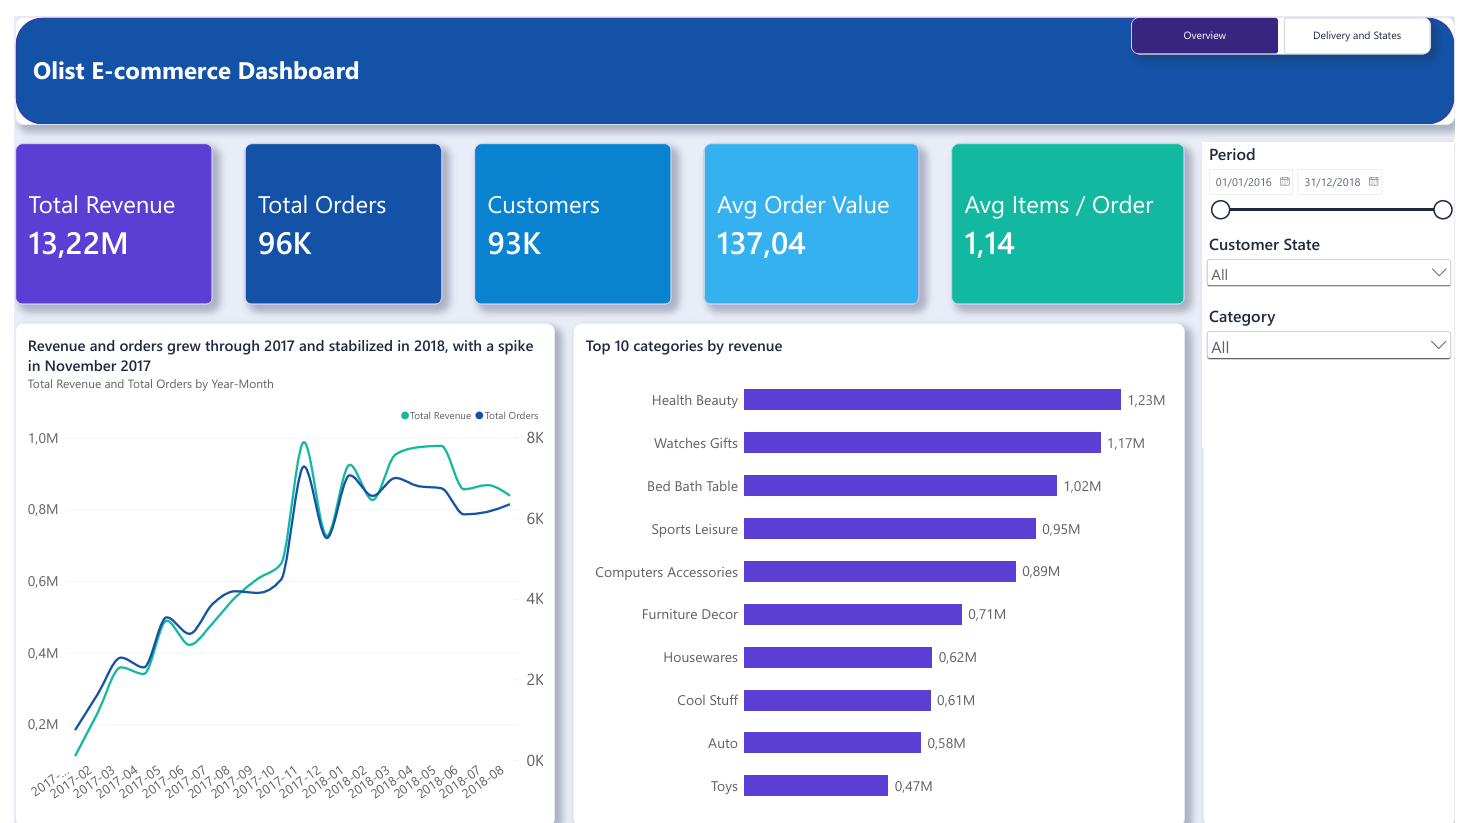

What the dashboard file says about the page in this screenshot:
{"tool":"powerbi","page":{"name":"Overview","canvas":[1920,1080],"ordinal":0},"visuals":[{"type":"cardVisual","fields":{"Data":["public vw_orders.Total Revenue"]},"box":[0,168,264,216],"z":0},{"type":"shape","box":[0,0,1920,144],"z":1},{"type":"textbox","box":[24,48,504,48],"z":3},{"type":"shape","box":[1584,168,336,912],"z":4},{"type":"slicer","fields":{"Values":["Calendar.Date"]},"box":[1584,168,336,192],"z":5},{"type":"slicer","fields":{"Values":["vw_orders.customer_state"]},"box":[1584,288,336,168],"z":6},{"type":"slicer","fields":{"Values":["vw_order_items.category"]},"box":[1584,384,336,192],"z":7},{"type":"cardVisual","fields":{"Data":["vw_orders.Total Orders"]},"box":[306,168,264,216],"z":8},{"type":"cardVisual","fields":{"Data":["vw_orders.Unique Customers"]},"box":[612,168,264,216],"z":9},{"type":"cardVisual","fields":{"Data":["vw_orders.Average Order Value"]},"box":[918,168,288,216],"z":10},{"type":"cardVisual","fields":{"Data":["vw_orders.Average Items per Order"]},"box":[1248,168,312,216],"z":11},{"type":"lineChart","title":"Revenue and orders grew through 2017 and stabilized in 2018, with a spike in November 2017","fields":{"Category":["Calendar.Year-Month"],"Y":["vw_orders.Total Revenue"],"Y2":["vw_orders.Total Orders"]},"box":[0,408,720,672],"z":12},{"type":"clusteredBarChart","title":"Top 10 categories by revenue","fields":{"Category":["vw_order_items.category"],"Y":["vw_order_items.Category Revenue"]},"box":[744,408,816,672],"z":13},{"type":"pageNavigator","box":[1488,0,400,50],"z":14}]}

Visuals, with their boxes in screenshot pixels (x1, y1, x2, y2), scaled from the page's 1920x1080 canvas onto the 1470x823 screenshot:
cardVisual - public vw_orders.Total Revenue: [x1=0, y1=128, x2=202, y2=293]
shape: [x1=0, y1=0, x2=1469, y2=110]
textbox: [x1=18, y1=37, x2=404, y2=73]
shape: [x1=1213, y1=128, x2=1469, y2=822]
slicer - Calendar.Date: [x1=1213, y1=128, x2=1469, y2=274]
slicer - vw_orders.customer_state: [x1=1213, y1=219, x2=1469, y2=347]
slicer - vw_order_items.category: [x1=1213, y1=293, x2=1469, y2=439]
cardVisual - vw_orders.Total Orders: [x1=234, y1=128, x2=436, y2=293]
cardVisual - vw_orders.Unique Customers: [x1=469, y1=128, x2=671, y2=293]
cardVisual - vw_orders.Average Order Value: [x1=703, y1=128, x2=923, y2=293]
cardVisual - vw_orders.Average Items per Order: [x1=956, y1=128, x2=1194, y2=293]
"Revenue and orders grew through 2017 and stabilized in 2018, with a spike in November 2017" lineChart: [x1=0, y1=311, x2=551, y2=822]
"Top 10 categories by revenue" clusteredBarChart: [x1=570, y1=311, x2=1194, y2=822]
pageNavigator: [x1=1139, y1=0, x2=1446, y2=38]
